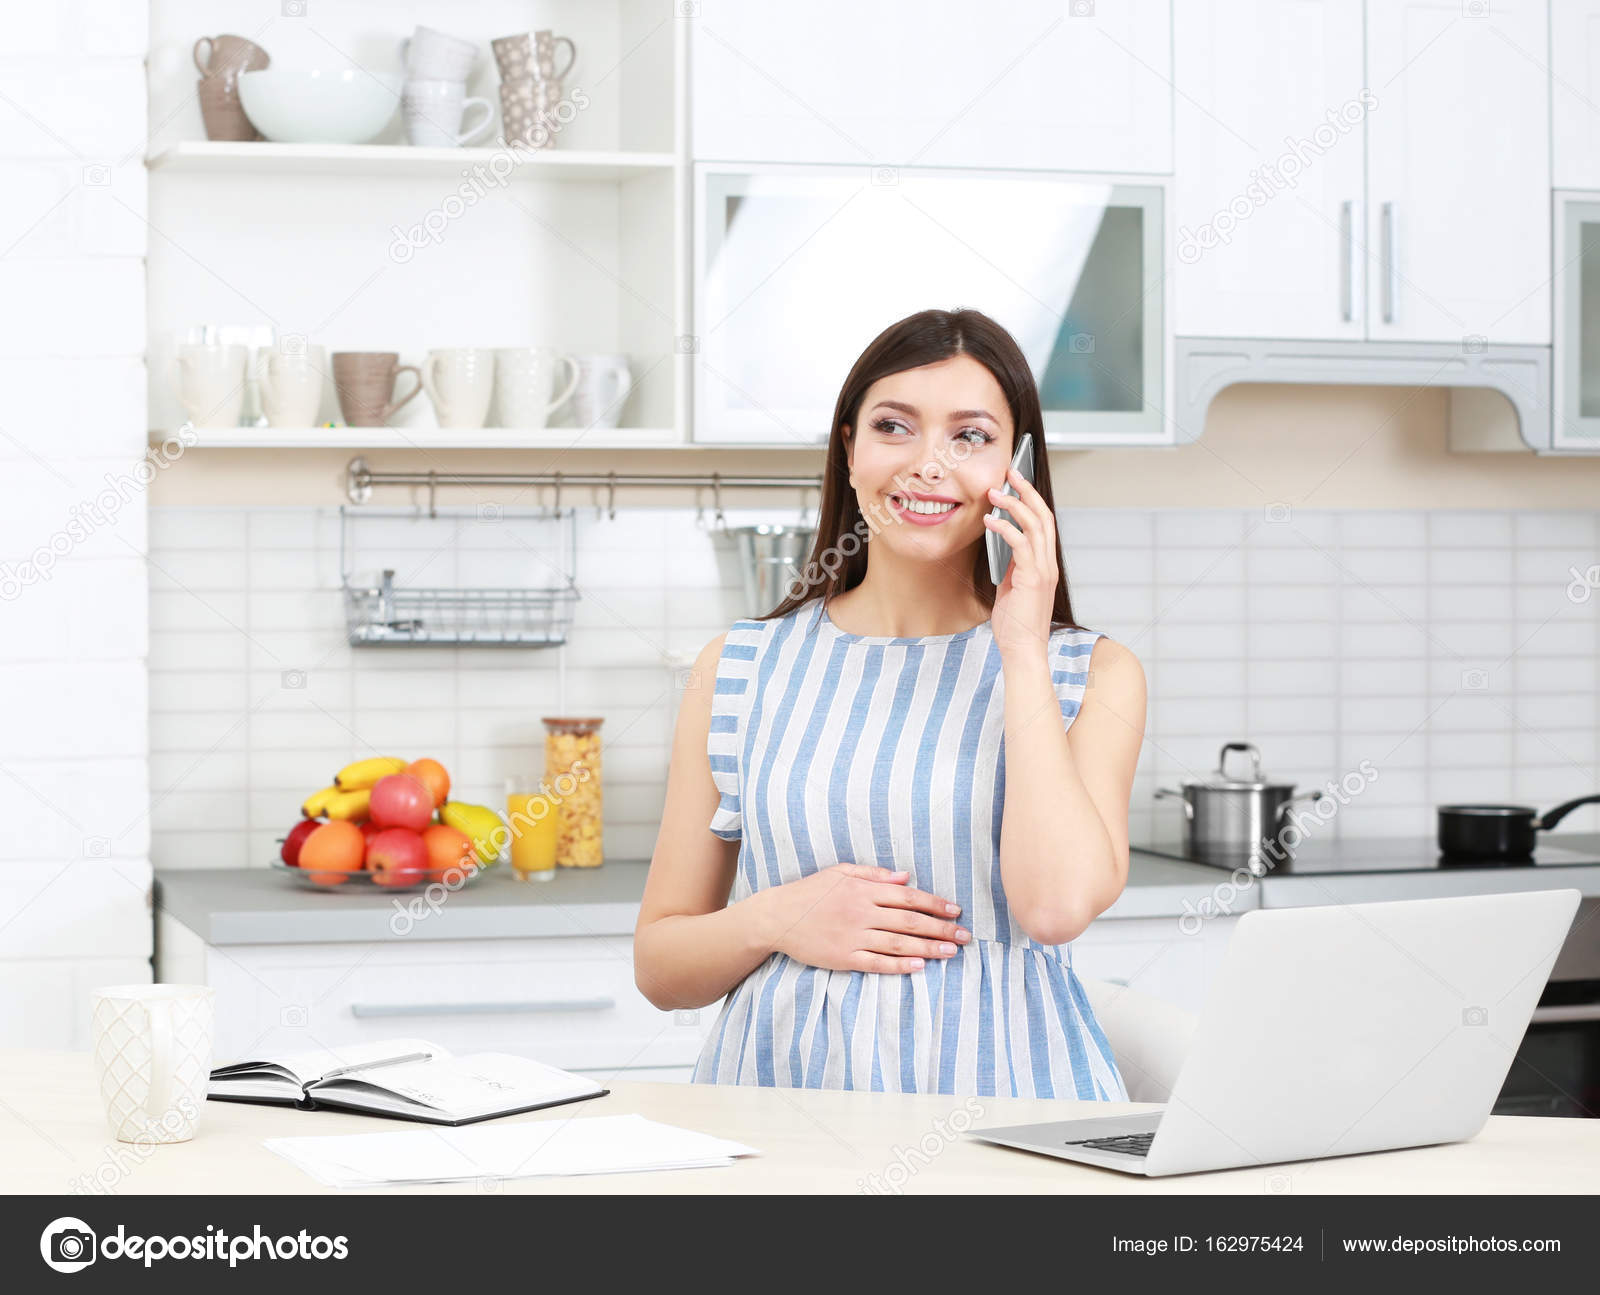phone: (978, 441, 1066, 583)
talk: (846, 398, 1083, 637)
